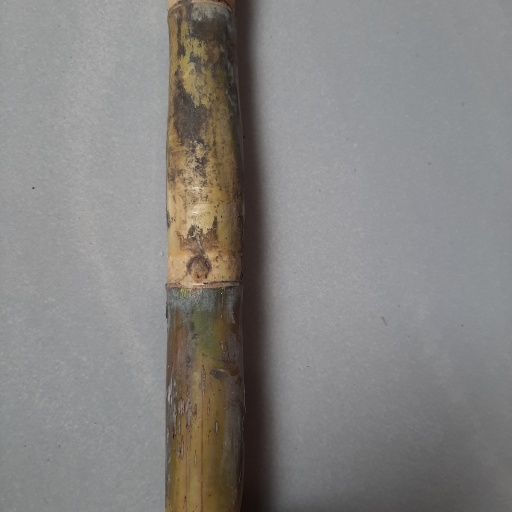Bud: (186, 255, 212, 281)
